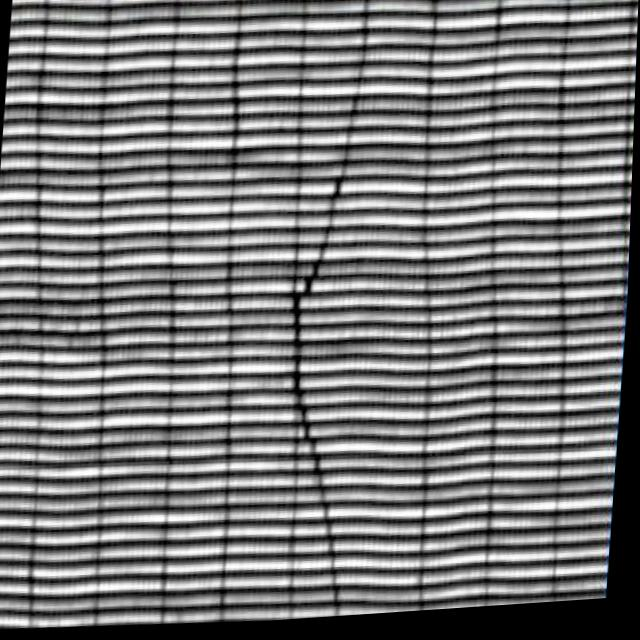Stitch: (256, 92, 388, 537)
